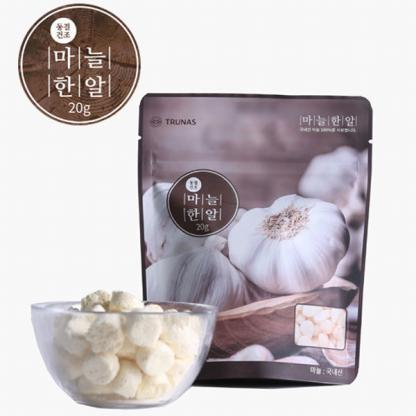garlic: (232, 206, 350, 290)
